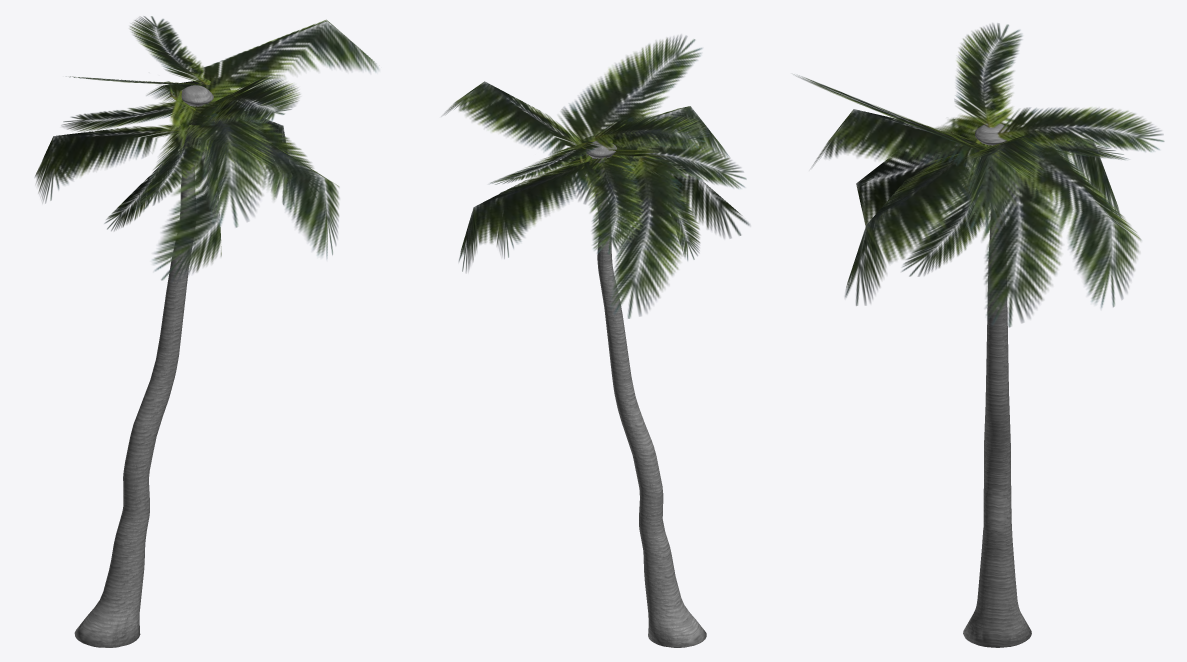
File: palm-short.lod1.glb
The picture shows the model from 3 angles, left to right: view 1: azimuth 30°, elevation 25°; view 2: azimuth 150°, elevation 25°; view 3: azimuth 270°, elevation 25°; orthographic projection. The views are drawn at different scales.
Visible parts, largest first — view 1: Cylinder.001_Material.002_0, Cylinder.001_Material.001_0; view 2: Cylinder.001_Material.002_0, Cylinder.001_Material.001_0; view 3: Cylinder.001_Material.002_0, Cylinder.001_Material.001_0.
Boxes of the visible parts, box(x1,y1,x2,y2) form: Cylinder.001_Material.002_0: box(34, 16, 379, 282); Cylinder.001_Material.001_0: box(74, 85, 213, 647); Cylinder.001_Material.002_0: box(441, 34, 749, 318); Cylinder.001_Material.001_0: box(586, 140, 706, 647); Cylinder.001_Material.002_0: box(793, 23, 1164, 327); Cylinder.001_Material.001_0: box(963, 123, 1031, 647).
Bounding box in the file's own units: 2.57 × 4.4 × 2.47.
Materials: 2 (2 with a texture image).
